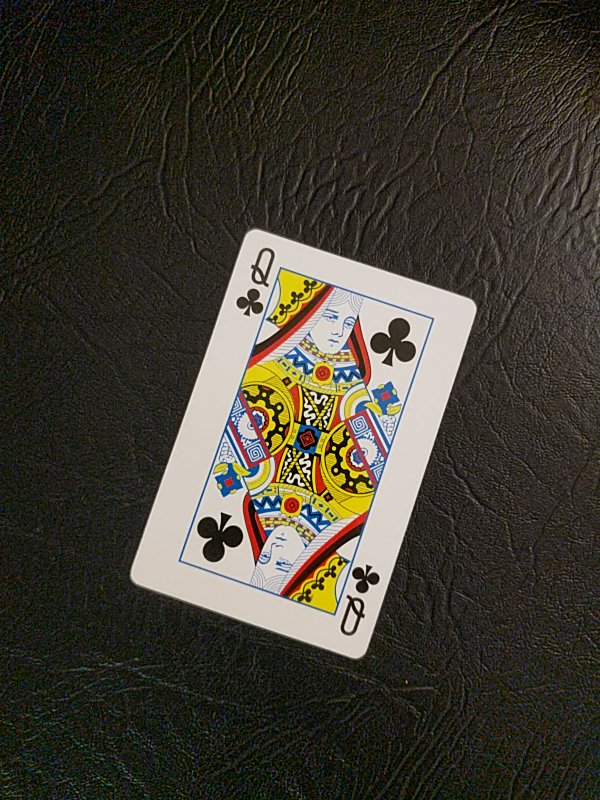Clubs: (126, 226, 475, 662)
